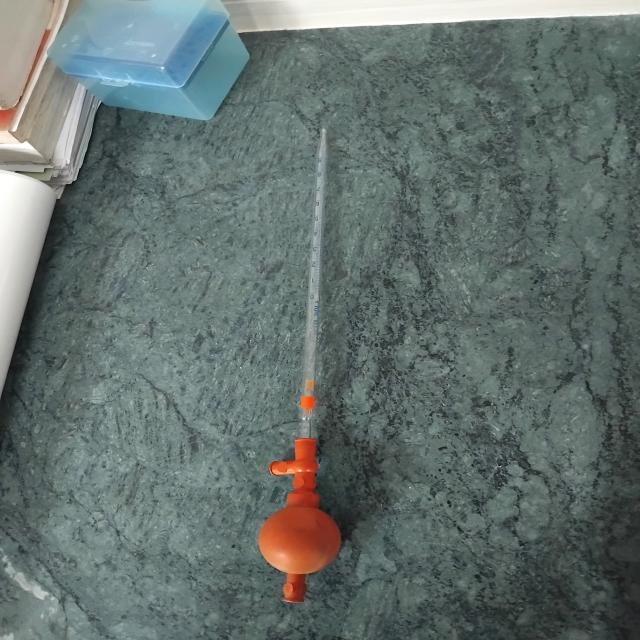Volumetric_Pipet: (252, 116, 386, 619)
